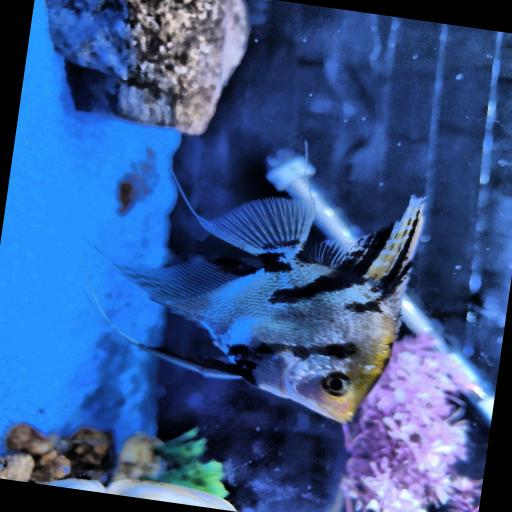Fish: (117, 198, 423, 422)
